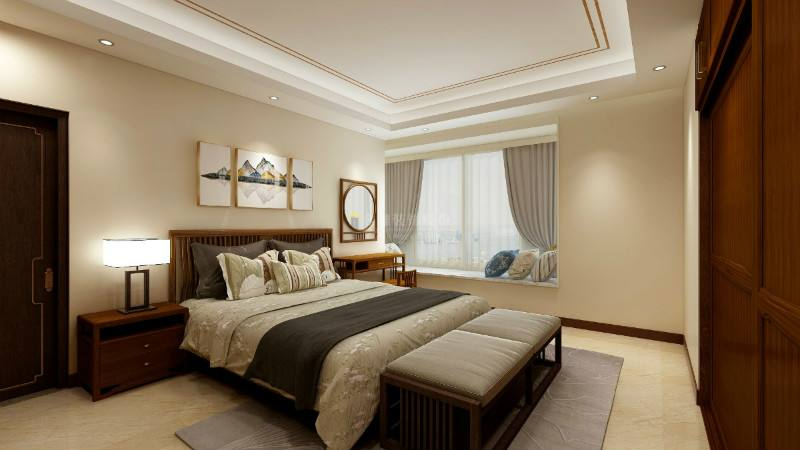床: (178, 278, 557, 445)
枕头: (187, 241, 342, 295), (477, 248, 557, 284)
灯: (98, 235, 173, 313), (93, 37, 117, 49), (648, 64, 668, 74), (265, 93, 282, 104), (587, 94, 603, 104)
